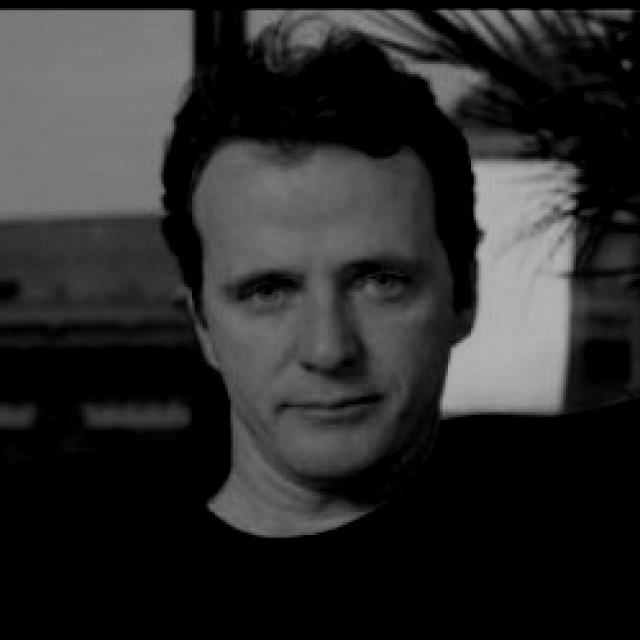real: (192, 136, 457, 486), (222, 265, 420, 315)
